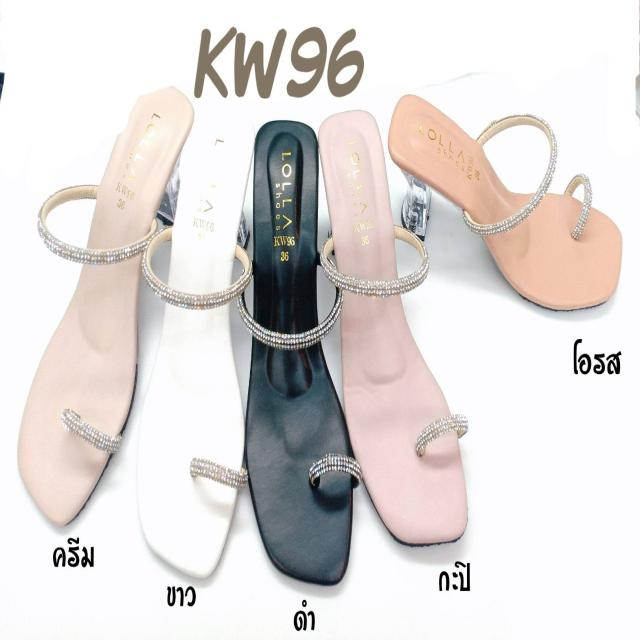black: (246, 120, 350, 582)
cream: (16, 84, 192, 516)
kapi: (323, 108, 469, 537)
orot: (390, 93, 624, 317)
white: (139, 116, 245, 581)
